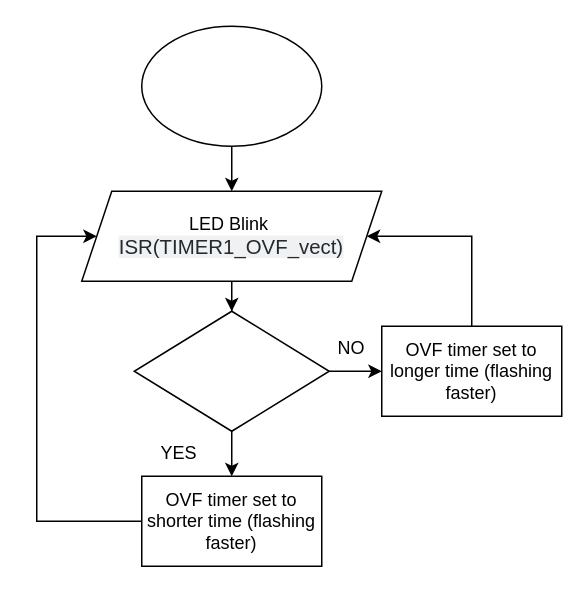
Some shapes in this 588 by 593 pixel diagram are drawn without their labels. Each missing label, with the box of its shape:
Is Button pressed?: (133, 310, 329, 431)
START: (140, 25, 322, 146)
